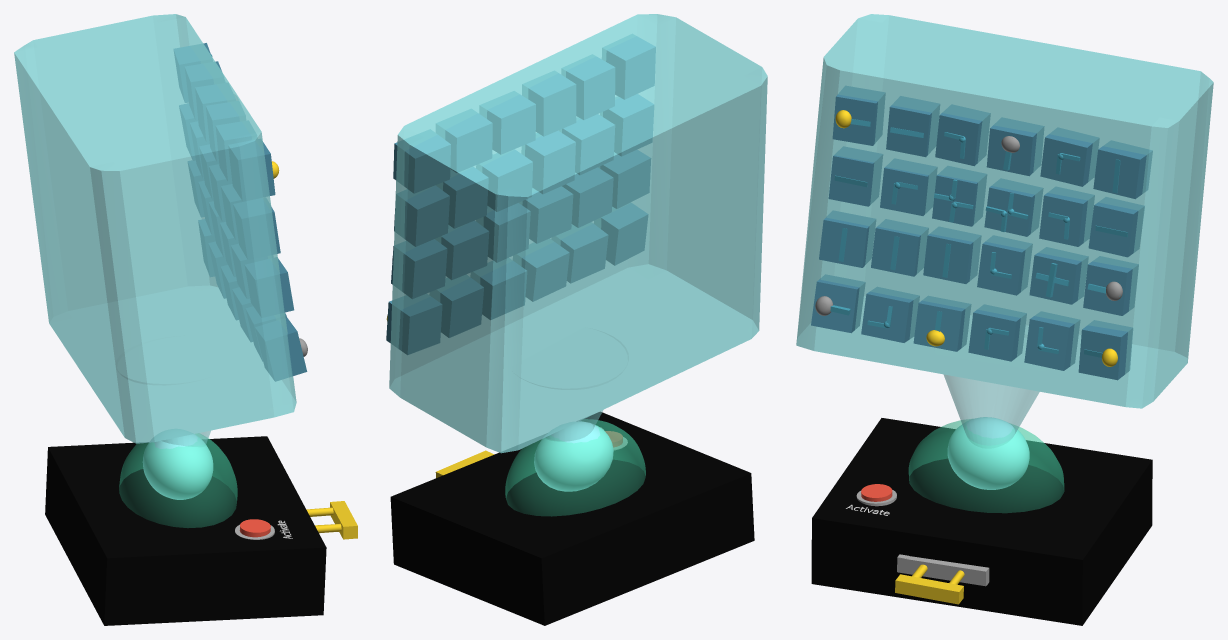
Rendered from lazer hologram puzzle lock.fbx.
3 views of the same model, side by side, from view 1: azimuth 30°, elevation 25°; view 2: azimuth 150°, elevation 25°; view 3: azimuth 270°, elevation 25° (orthographic).
Parts seen in each view (by area): view 1: 204e92e7-01c5-465d-a107-a0031af45662; view 2: 204e92e7-01c5-465d-a107-a0031af45662; view 3: 204e92e7-01c5-465d-a107-a0031af45662.
Part boxes in pixels (x1,y1,x2,y2): 204e92e7-01c5-465d-a107-a0031af45662: (14,14,357,625); 204e92e7-01c5-465d-a107-a0031af45662: (386,14,767,625); 204e92e7-01c5-465d-a107-a0031af45662: (796,14,1213,625).
Size of the model in its own units: 54555 by 88272 by 67471.
